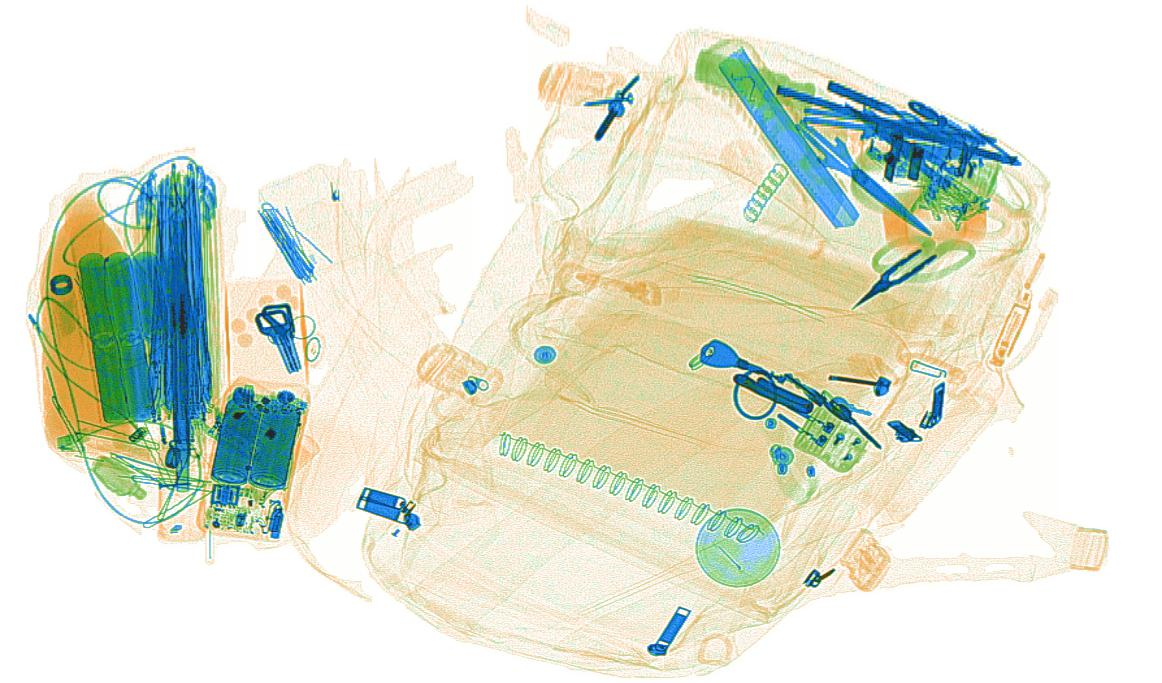battery: (73, 247, 214, 429), (195, 383, 307, 539)
knife: (705, 33, 858, 229)
scissors: (840, 96, 1032, 238), (759, 94, 937, 238), (760, 80, 968, 150), (847, 229, 976, 311)
